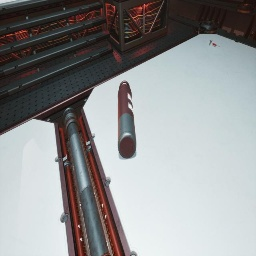NitrogenTank ,: (118, 81, 136, 159)
